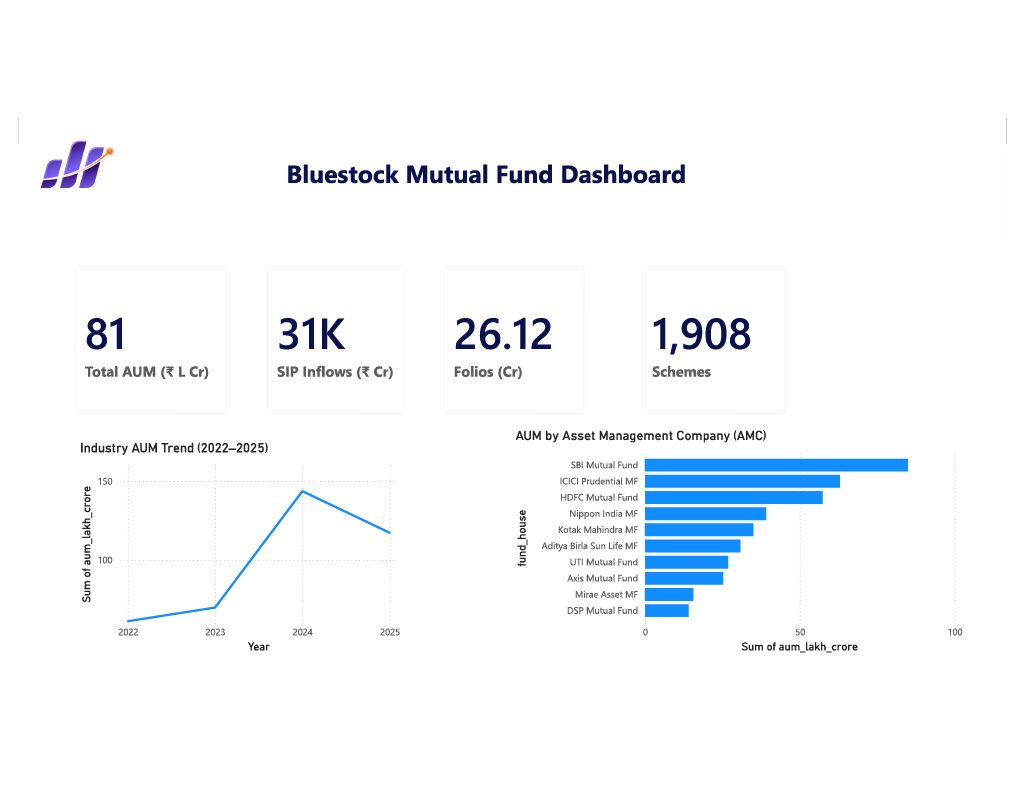

What the dashboard file says about the page in this screenshot:
{"tool":"powerbi","page":{"name":"Industry Overview","canvas":[1280,720],"ordinal":0},"visuals":[{"type":"cardVisual","fields":{"Data":["03_aum_by_fund_house_clean.Total AUM"]},"box":[56,175.4,231.4,225.2],"z":0},{"type":"cardVisual","fields":{"Data":["04_monthly_sip_inflows_clean.SIP (cr)"]},"box":[304.8,175.4,214,225.2],"z":1000},{"type":"cardVisual","fields":{"Data":["06_industry_folio_count_clean.Folios"]},"box":[533.7,175.4,216.4,225.2],"z":2000},{"type":"textbox","box":[342.1,43.5,547.3,67.2],"z":3000},{"type":"cardVisual","fields":{"Data":["07_scheme_performance_clean.Schemes"]},"box":[791.2,175.4,220.2,225.2],"z":4000},{"type":"lineChart","title":"Industry AUM Trend (2022–2025)","fields":{"Category":["03_aum_by_fund_house_clean.date.Variation.Date Hierarchy.Year","03_aum_by_fund_house_clean.date.Variation.Date Hierarchy.Quarter","03_aum_by_fund_house_clean.date.Variation.Date Hierarchy.Month","03_aum_by_fund_house_clean.date.Variation.Date Hierarchy.Day"],"Y":["Sum(03_aum_by_fund_house_clean.aum_lakh_crore)"]},"box":[74.6,416.7,424.2,281.1],"z":5000},{"type":"clusteredBarChart","title":"AUM by Asset Management Company (AMC)","fields":{"Y":["Sum(03_aum_by_fund_house_clean.aum_lakh_crore)"],"Category":["03_aum_by_fund_house_clean.fund_house"]},"box":[639.4,400.6,588.4,297.3],"z":6000},{"type":"image","box":[3.7,0,141.8,123.2],"z":6001}]}

Visuals, with their boxes on the page's 1280x720 design canvas (x1, y1, x2, y2). These are canvas units, not pixel positions in the 1024x791 screenshot, which may show the page scaled, cropped or inside an application window:
cardVisual - 03_aum_by_fund_house_clean.Total AUM: (56,175,287,401)
cardVisual - 04_monthly_sip_inflows_clean.SIP (cr): (305,175,519,401)
cardVisual - 06_industry_folio_count_clean.Folios: (534,175,750,401)
textbox: (342,44,889,111)
cardVisual - 07_scheme_performance_clean.Schemes: (791,175,1011,401)
"Industry AUM Trend (2022–2025)" lineChart: (75,417,499,698)
"AUM by Asset Management Company (AMC)" clusteredBarChart: (639,401,1228,698)
image: (4,0,146,123)
